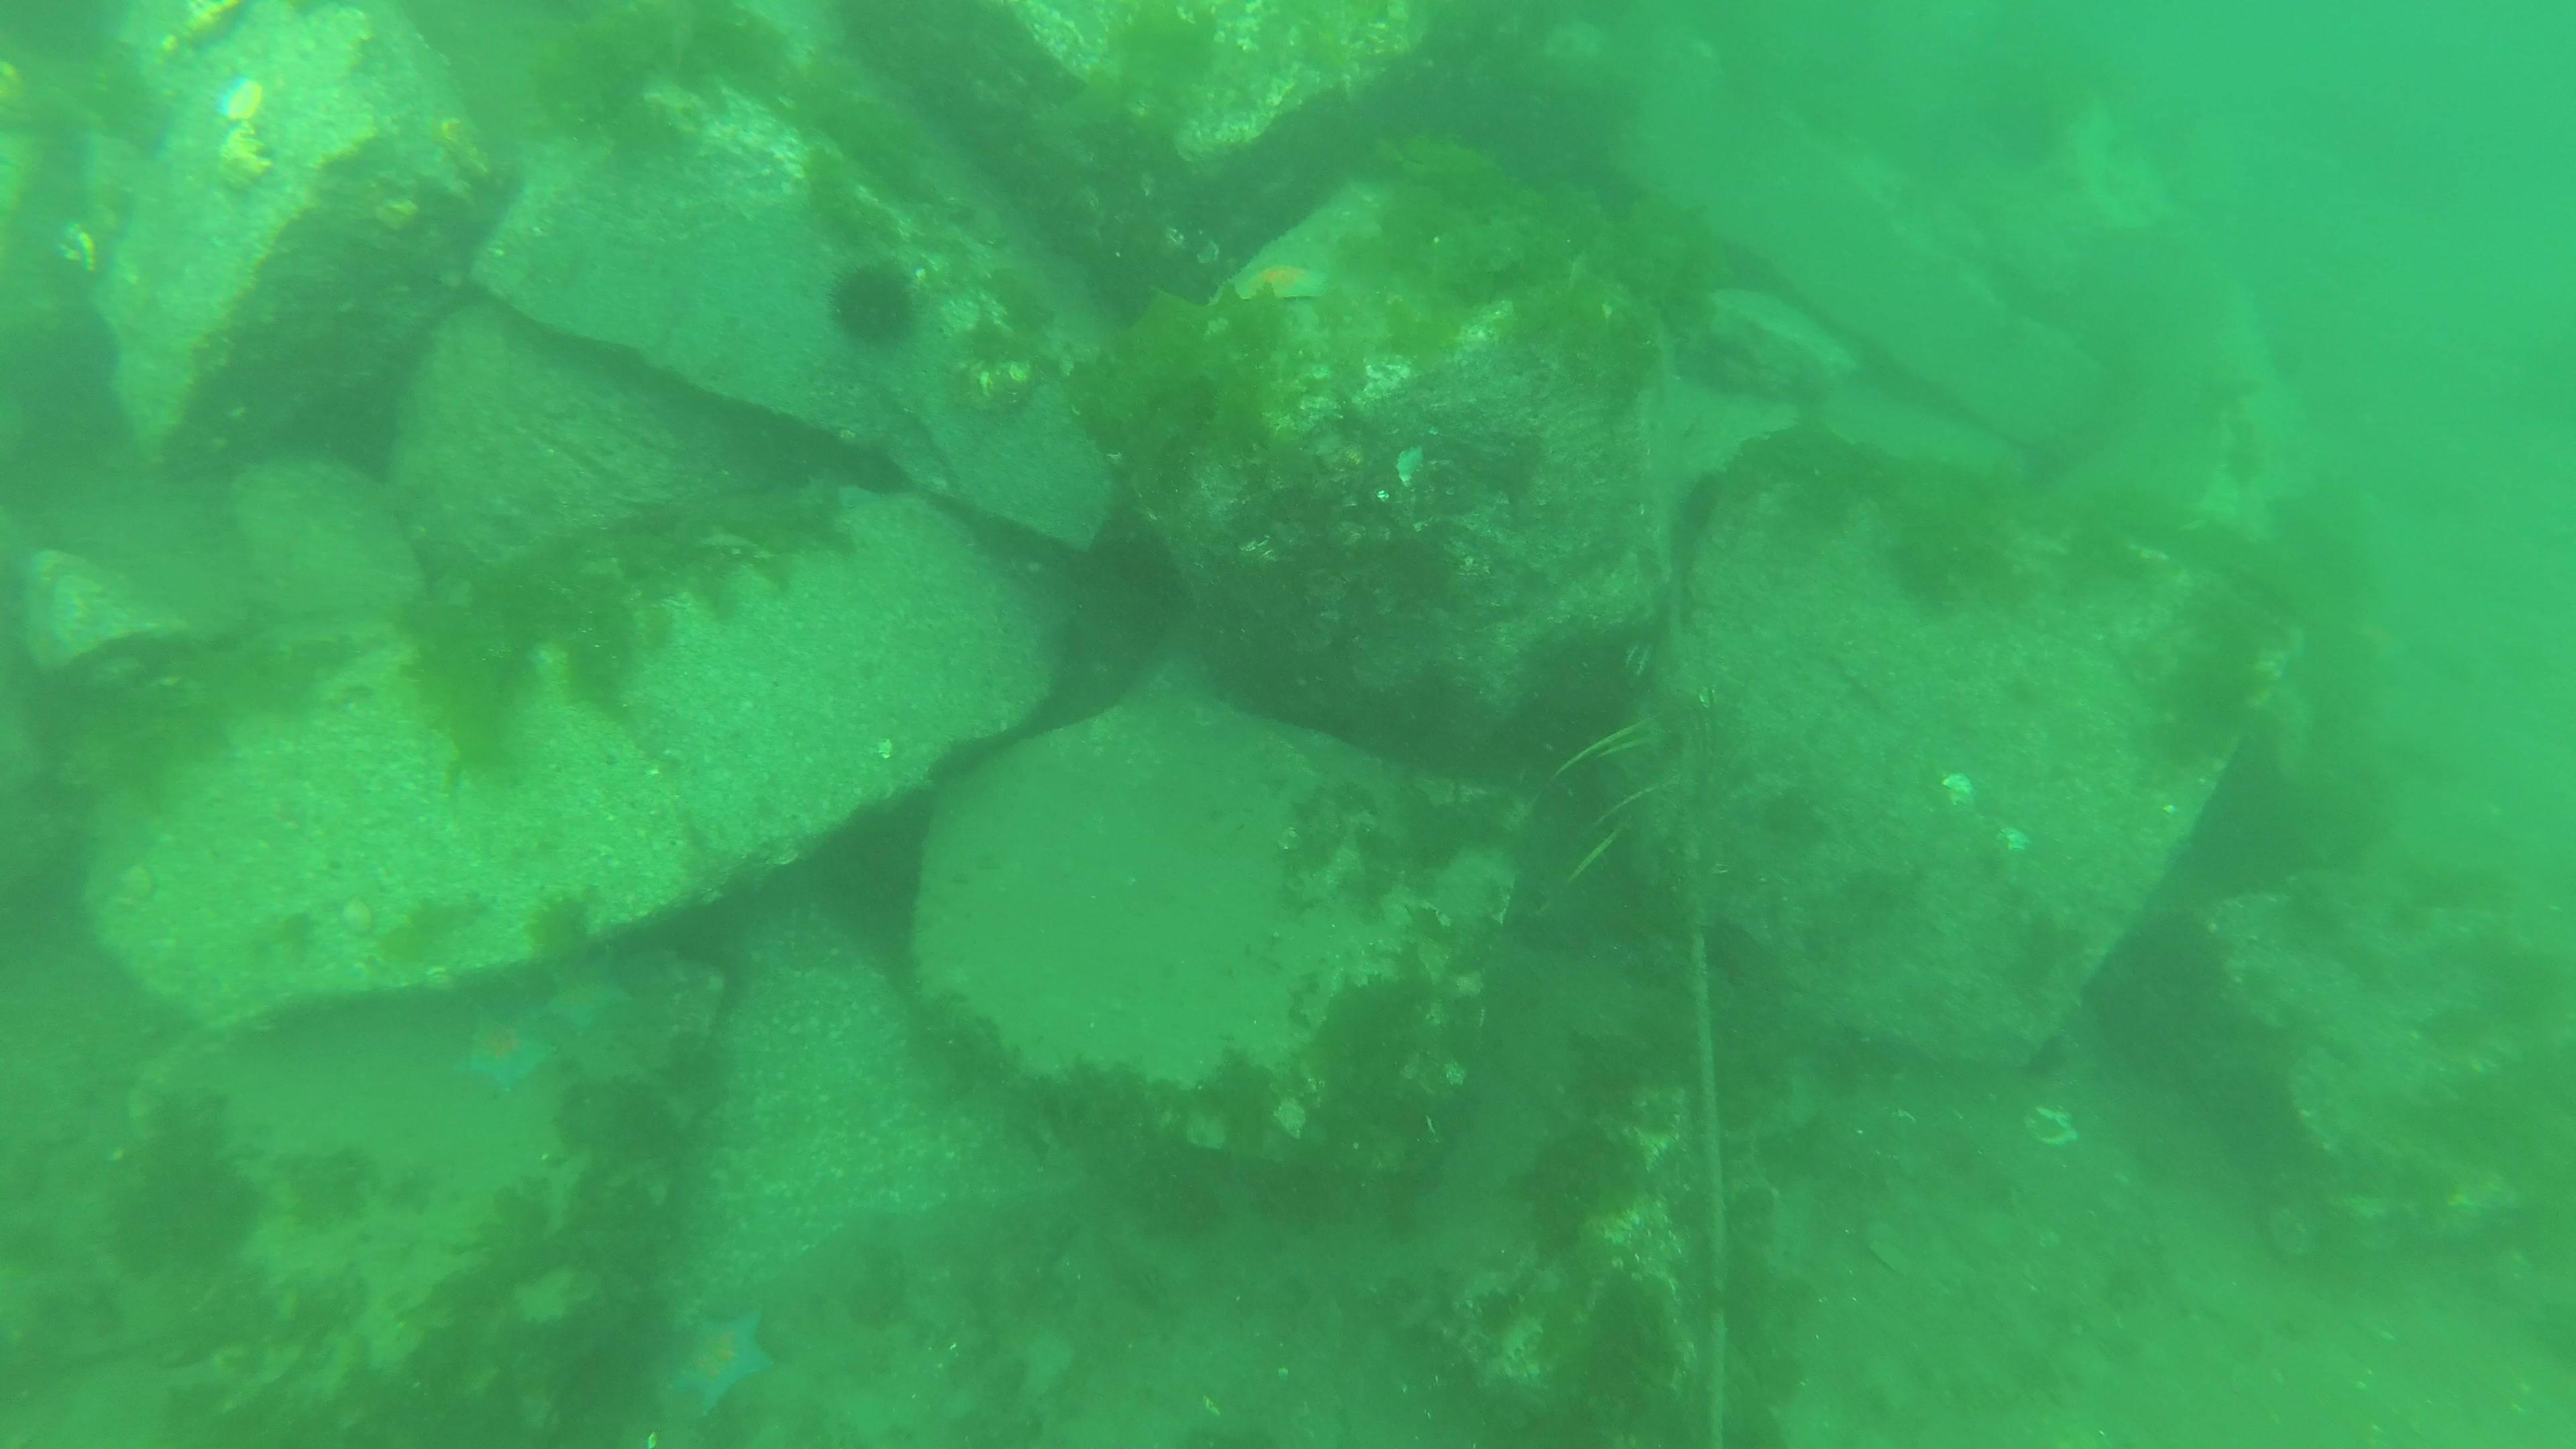echinus: (821, 260, 920, 349), (1698, 333, 1762, 398), (844, 444, 908, 497), (1679, 471, 1725, 533), (2026, 1033, 2066, 1079)
holothurian: (796, 464, 853, 508)
starfish: (663, 1302, 778, 1419), (449, 1001, 564, 1099), (534, 948, 635, 1039), (1230, 262, 1334, 303)
